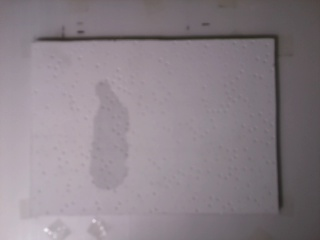Water_detected: (101, 101, 141, 183)
